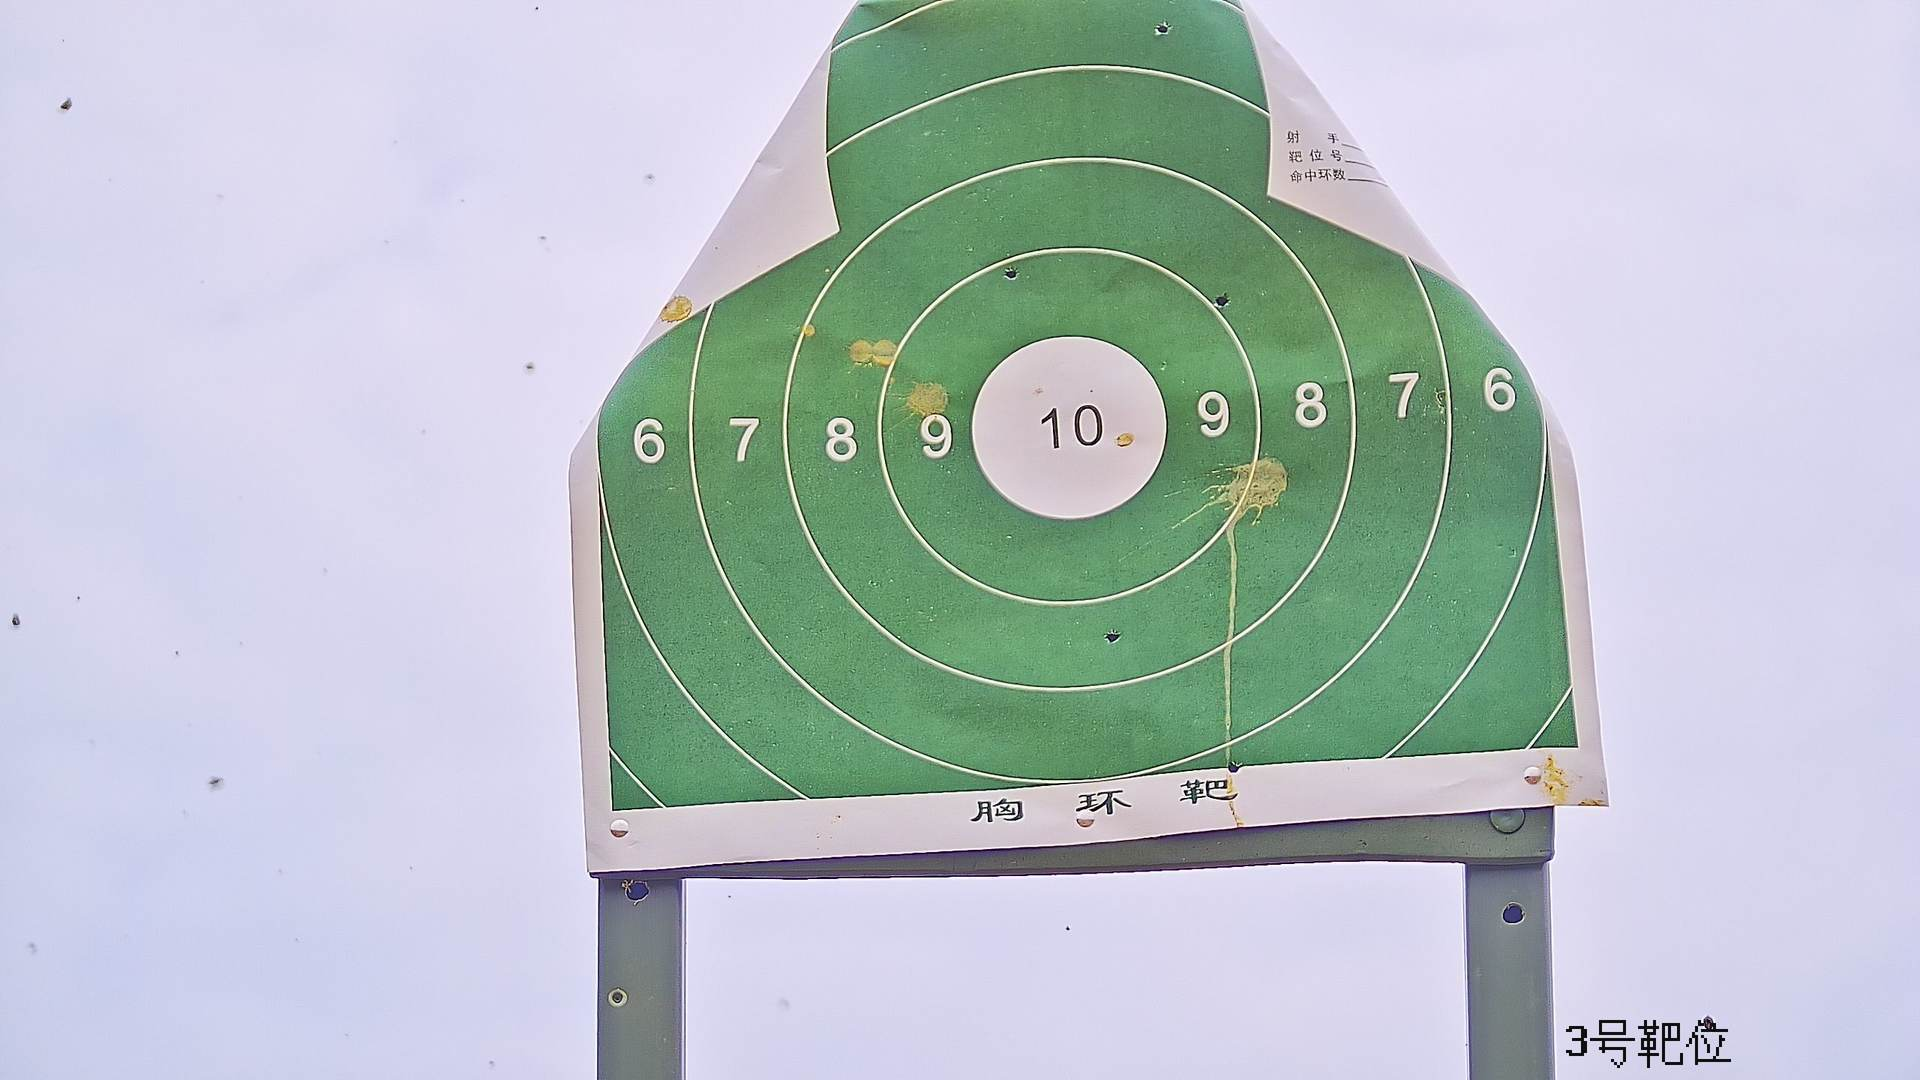hole: (1104, 629, 1124, 642), (1225, 761, 1244, 773), (1156, 21, 1171, 36), (1216, 293, 1228, 307), (1004, 266, 1015, 278)
kernel: (1062, 426, 1063, 429)
target: (596, 3, 1584, 807)
ten: (968, 331, 1168, 527)
